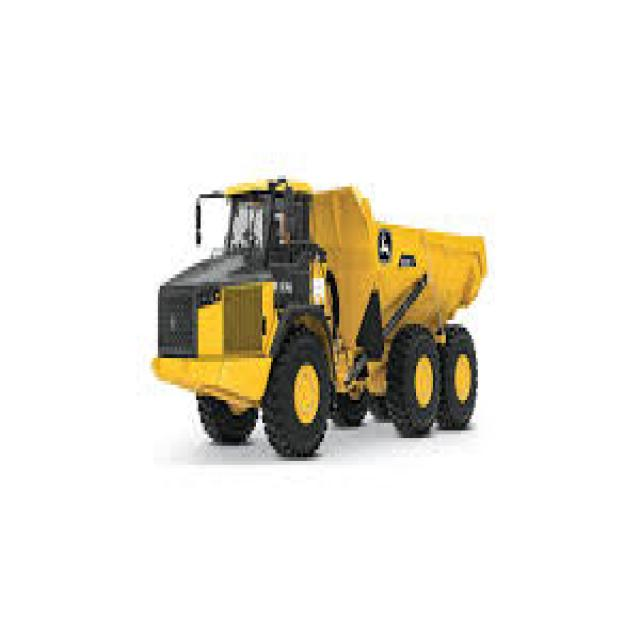dump_truck: (141, 160, 499, 484)
